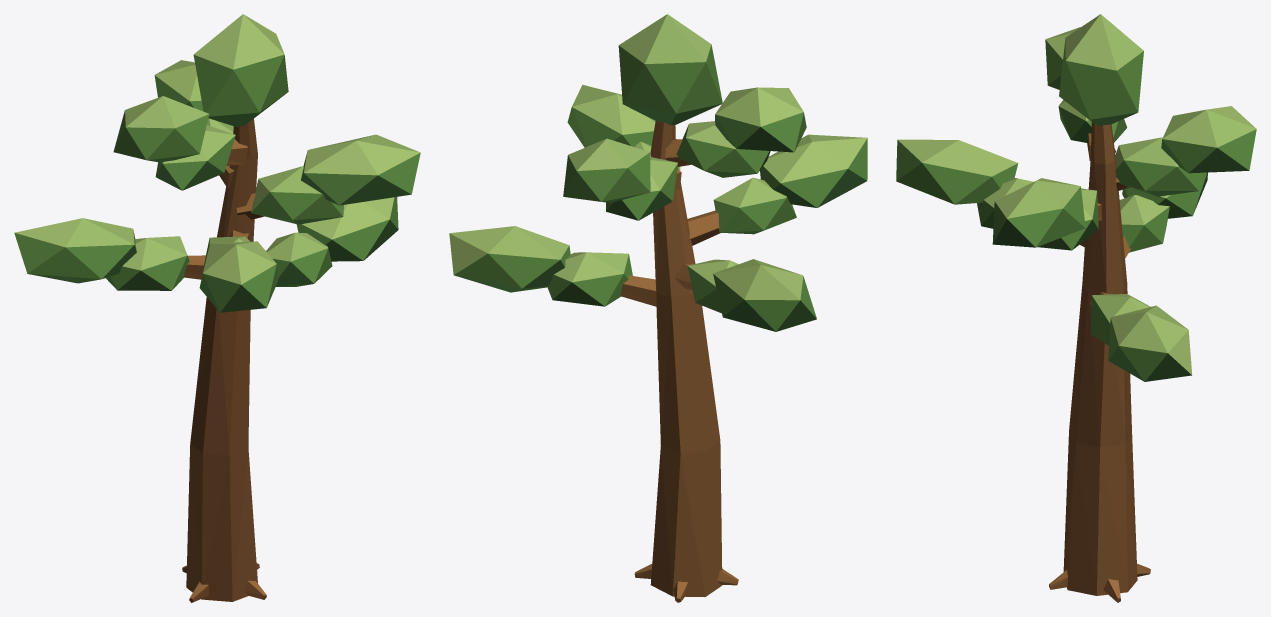
3 views of the same model, side by side, from view 1: azimuth 30°, elevation 25°; view 2: azimuth 150°, elevation 25°; view 3: azimuth 270°, elevation 25° (orthographic). The views are drawn at different scales.
Visible parts, largest first — view 1: WK_Tree_Pine_Alpine_LOD0_High; view 2: WK_Tree_Pine_Alpine_LOD0_High; view 3: WK_Tree_Pine_Alpine_LOD0_High.
Part boxes in pixels (box(x1,y1,x2,y2)): WK_Tree_Pine_Alpine_LOD0_High: box(14, 14, 420, 602); WK_Tree_Pine_Alpine_LOD0_High: box(449, 14, 867, 602); WK_Tree_Pine_Alpine_LOD0_High: box(896, 14, 1256, 602).
Bounding box in the file's own units: 5.05 × 7.42 × 4.18.
